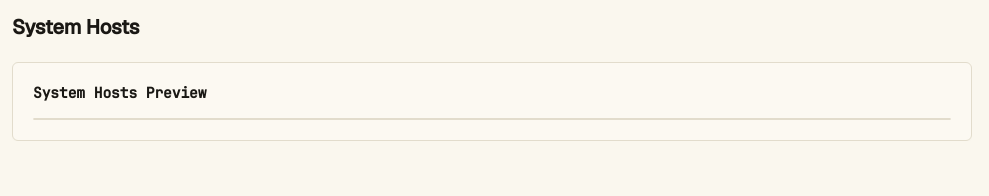
it: SystemHosts › navigates prev/next with wrap-around
Press f
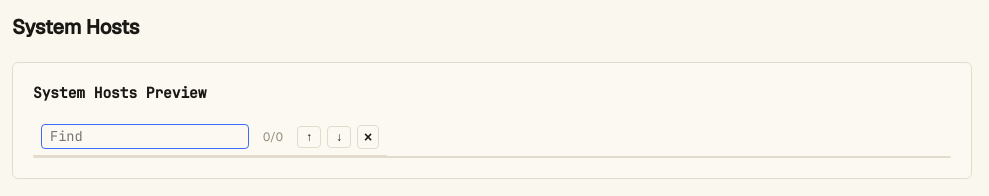
Type "example" into the field with test id "search-input" at point(145, 136), box [41,124,249,149]
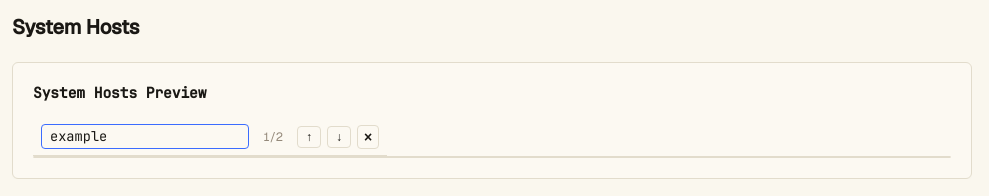
// Initial: 1/2. Next → 2/2.
Click the button with test id "next-button" at point(339, 136), box [327,126,351,148]
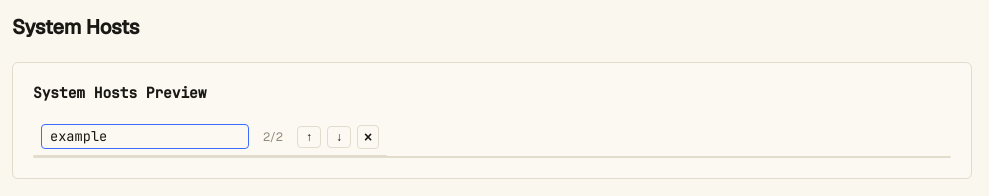
Expected: the text "2/2" is shown, [263,128,283,144]
// Next again → wrap to 1/2.
Click the button with test id "next-button" at point(339, 136), box [327,126,351,148]
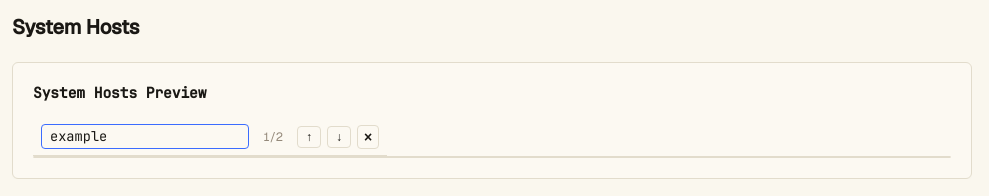
Expected: the text "1/2" is shown, [263,128,283,144]
// Prev → wrap to last (2/2).
Click the button with test id "prev-button" at point(309, 136), box [297,126,321,148]
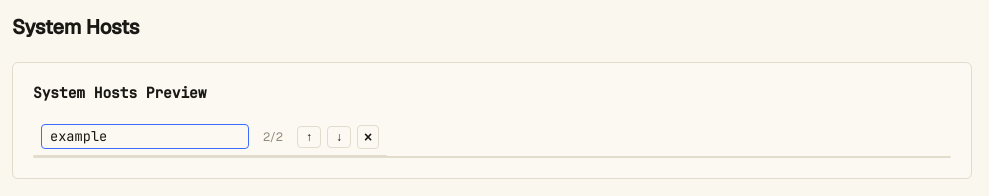
Expected: the text "2/2" is shown, [263,128,283,144]
